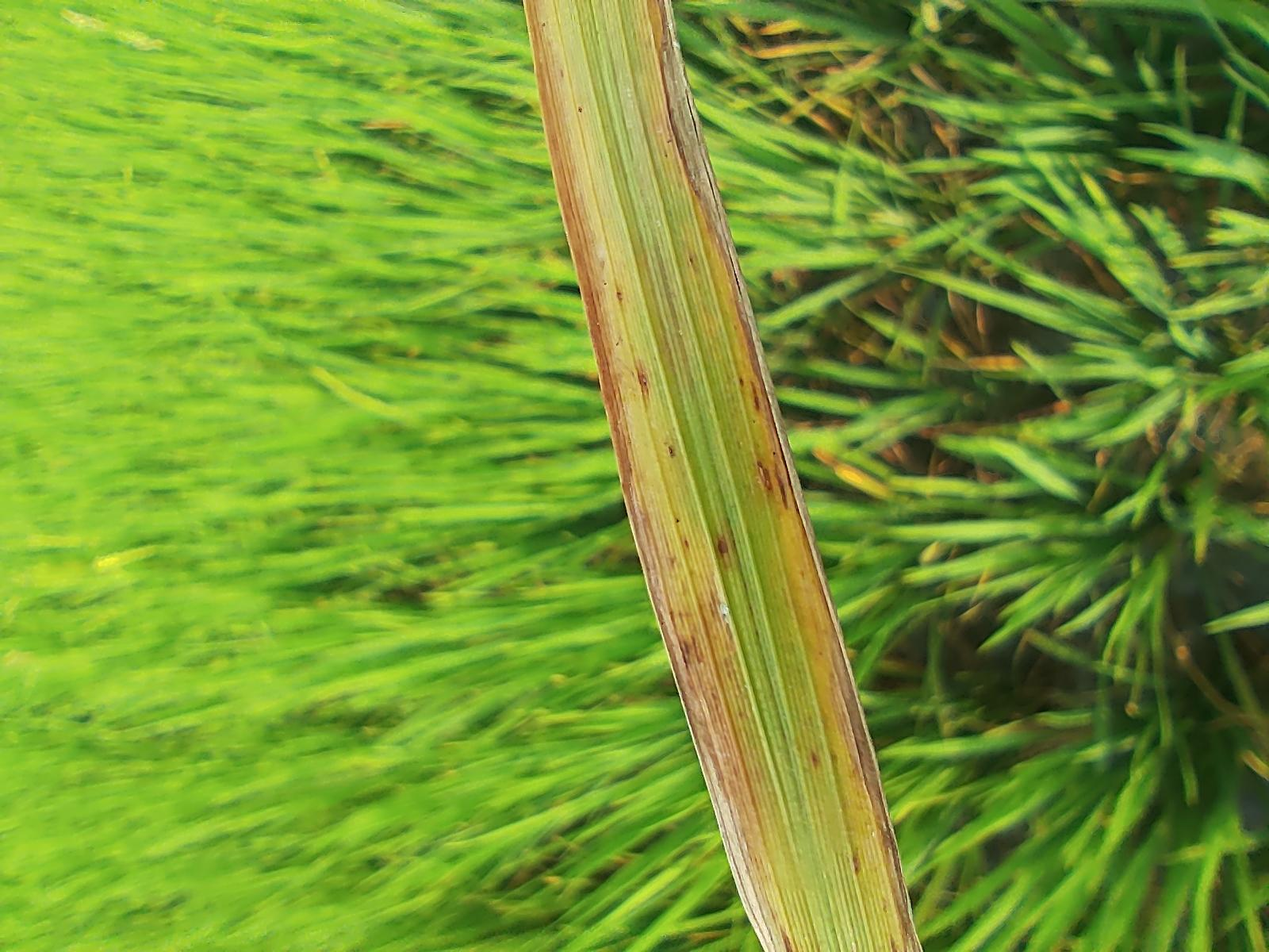LEAF: (0, 392, 1268, 691)
NBS: (589, 581, 651, 591), (615, 568, 655, 579), (719, 563, 761, 570), (102, 639, 131, 645), (243, 607, 269, 613), (535, 513, 550, 518), (752, 554, 765, 558)
